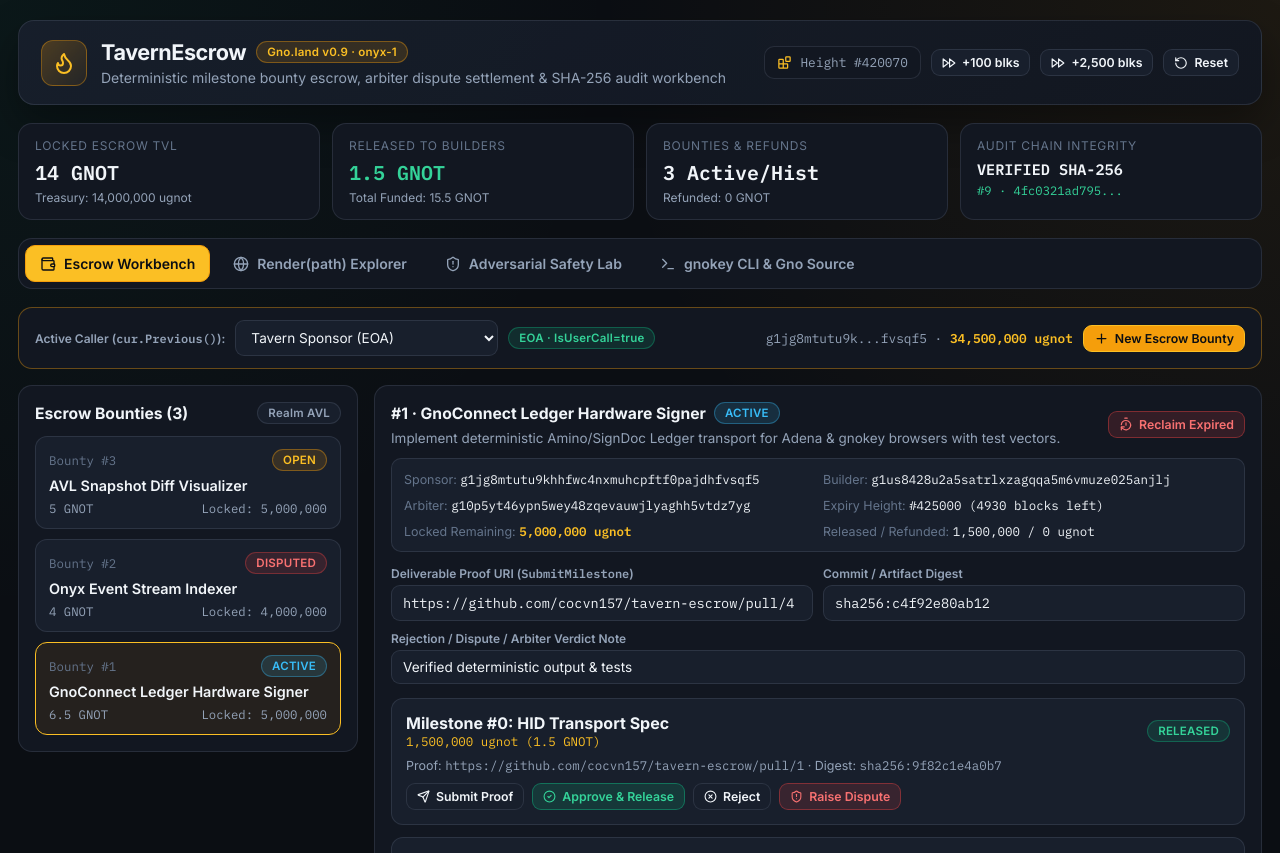
TavernEscrow Interactive Console UI › allows Second Builder to claim open Bounty #3
The image size is (1280, 853).
Click the text "AVL Snapshot Diff Visualizer" at (148, 486), box top-left (49, 477), bottom-right (248, 494)
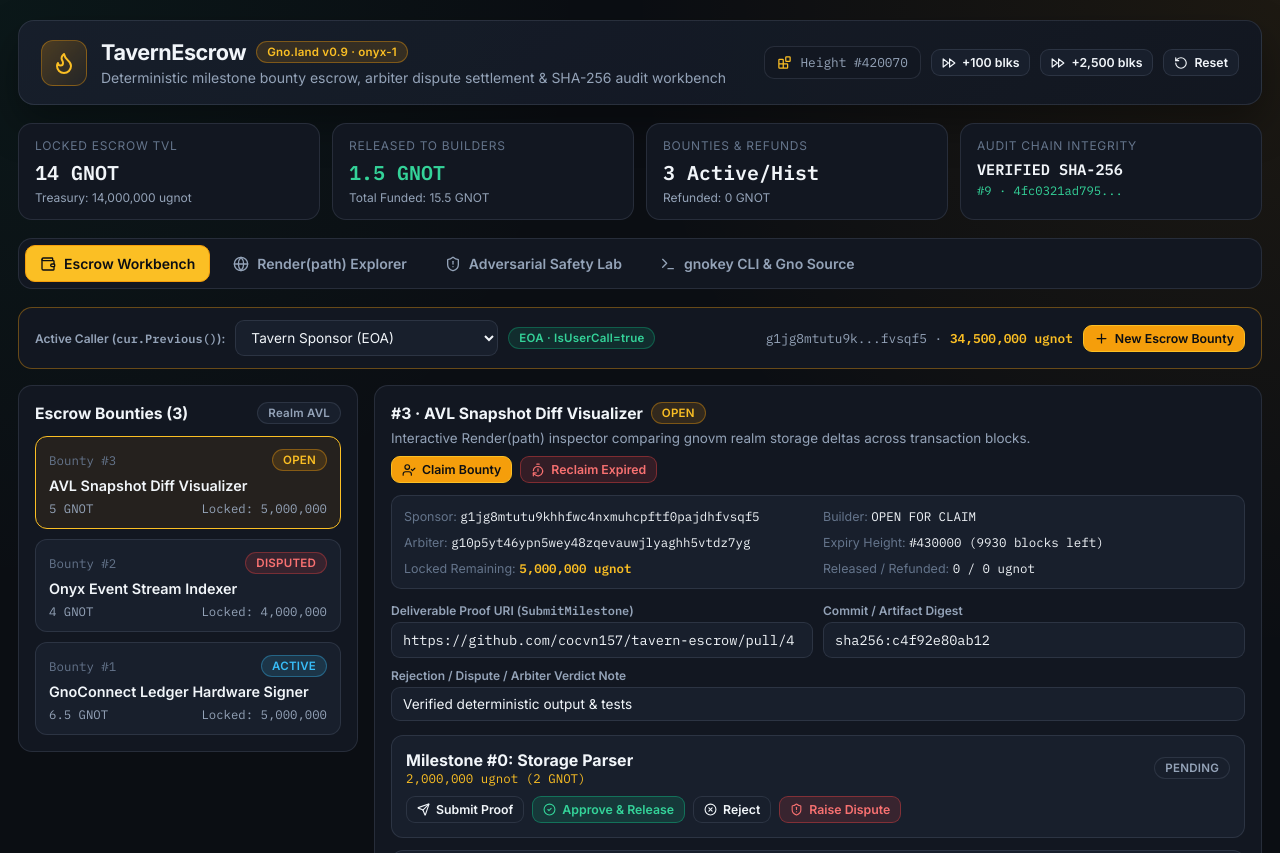
Select "Second Builder (EOA)" in the dropdown labelled "Active Caller (cur.Previous()):" at (367, 338), box top-left (235, 320), bottom-right (498, 356)
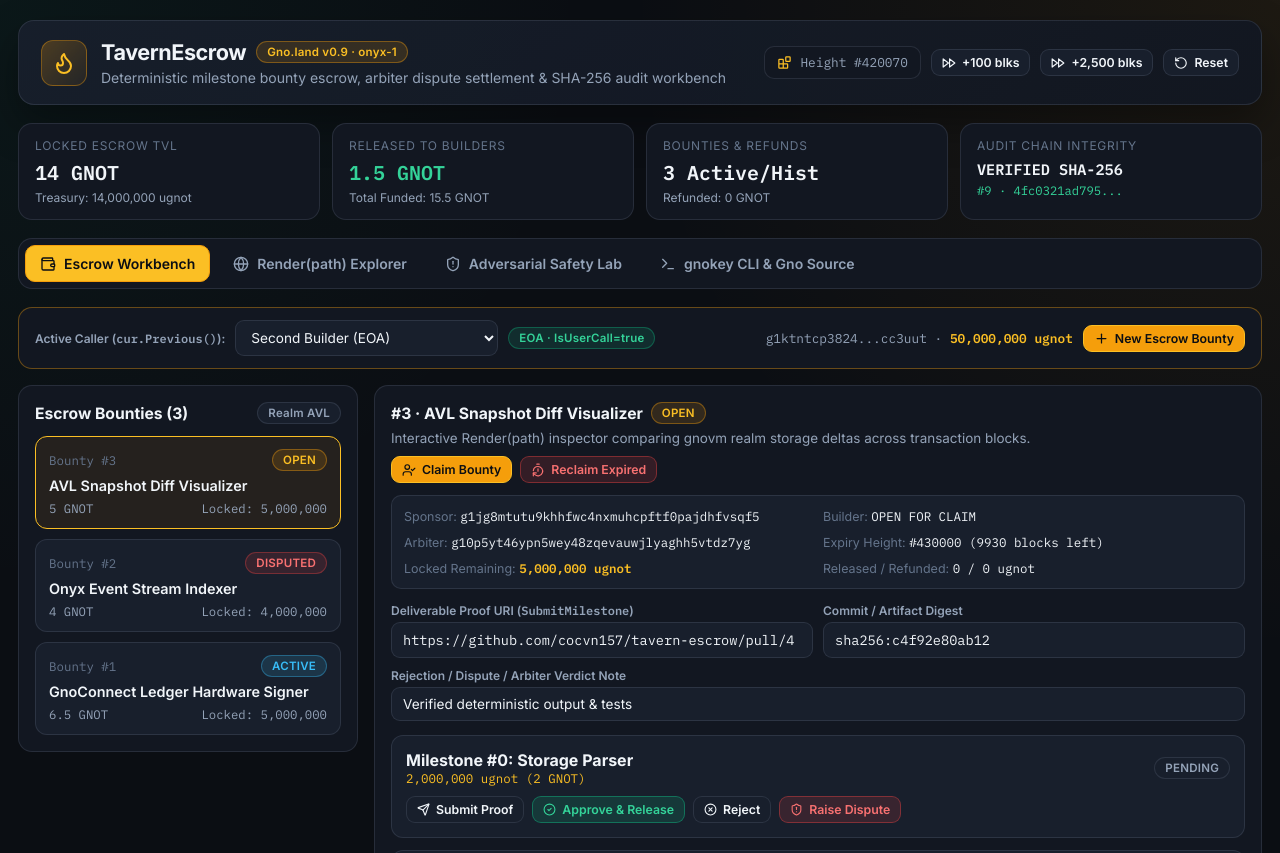
Click the button "Claim Bounty" at (452, 470), box top-left (391, 456), bottom-right (512, 483)
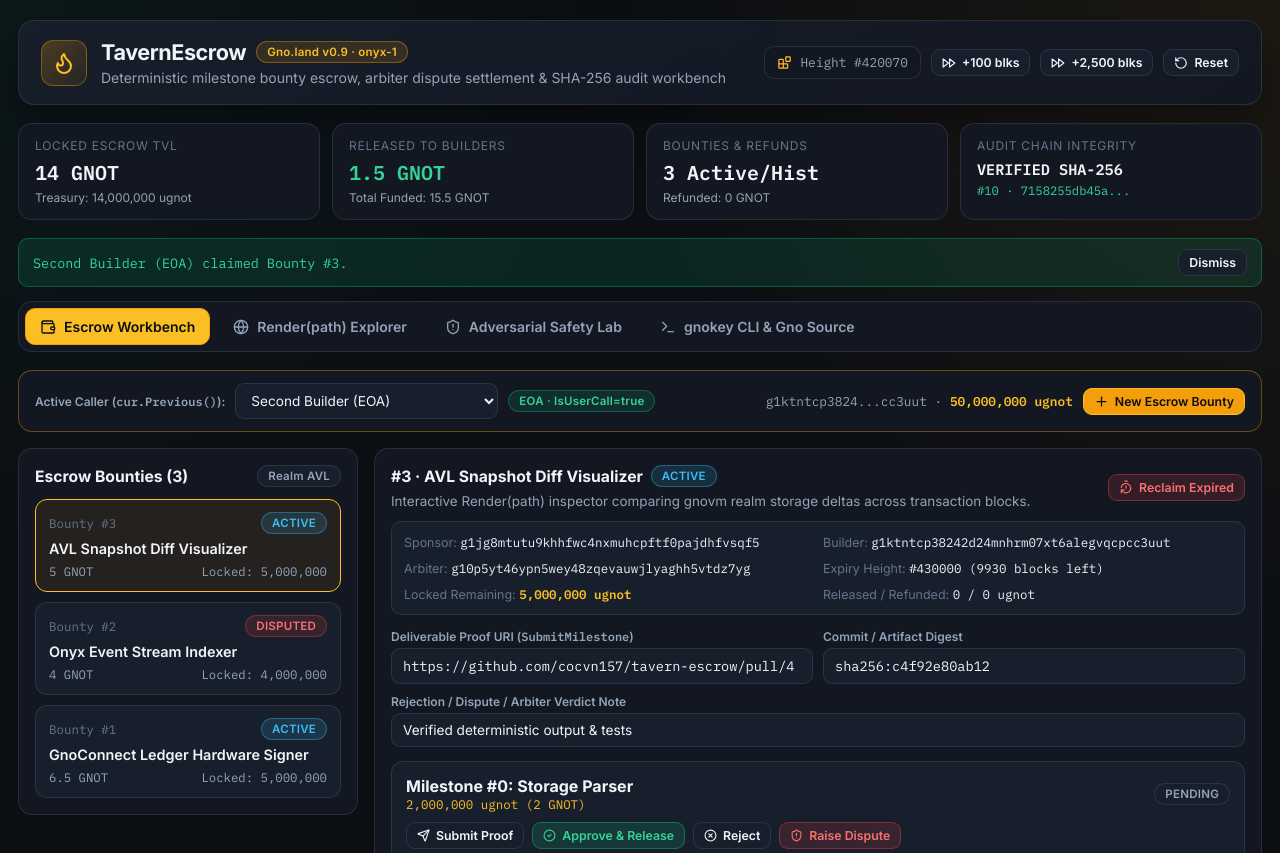
Expected: the message shows "claimed Bounty #3", top-left (33, 254), bottom-right (347, 272)
Expected: the text "g1ktntcp38242d24mnhrm07xt6alegvqcpcc3uut" is shown, top-left (871, 534), bottom-right (1171, 550)
